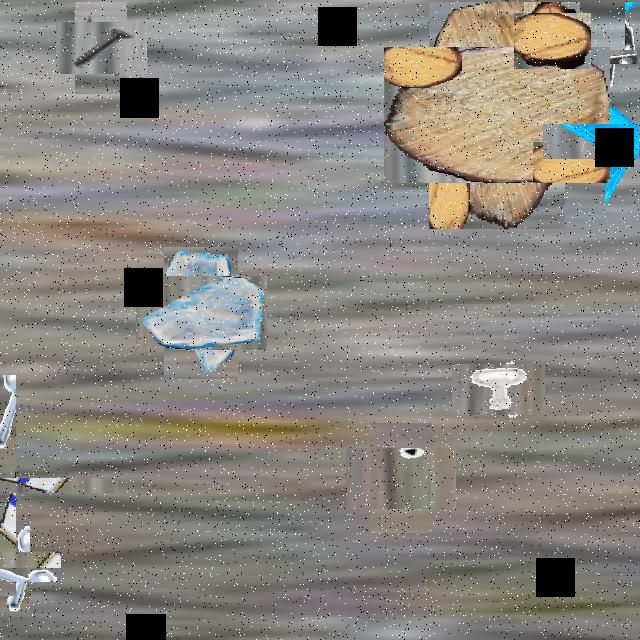glass: (150, 262, 252, 364), (573, 93, 640, 190)
metal: (358, 435, 444, 521), (463, 353, 535, 426), (65, 12, 137, 84), (0, 536, 45, 597), (601, 25, 640, 88)
plastic: (0, 426, 67, 544)
wood: (406, 25, 588, 206), (518, 7, 586, 74)
